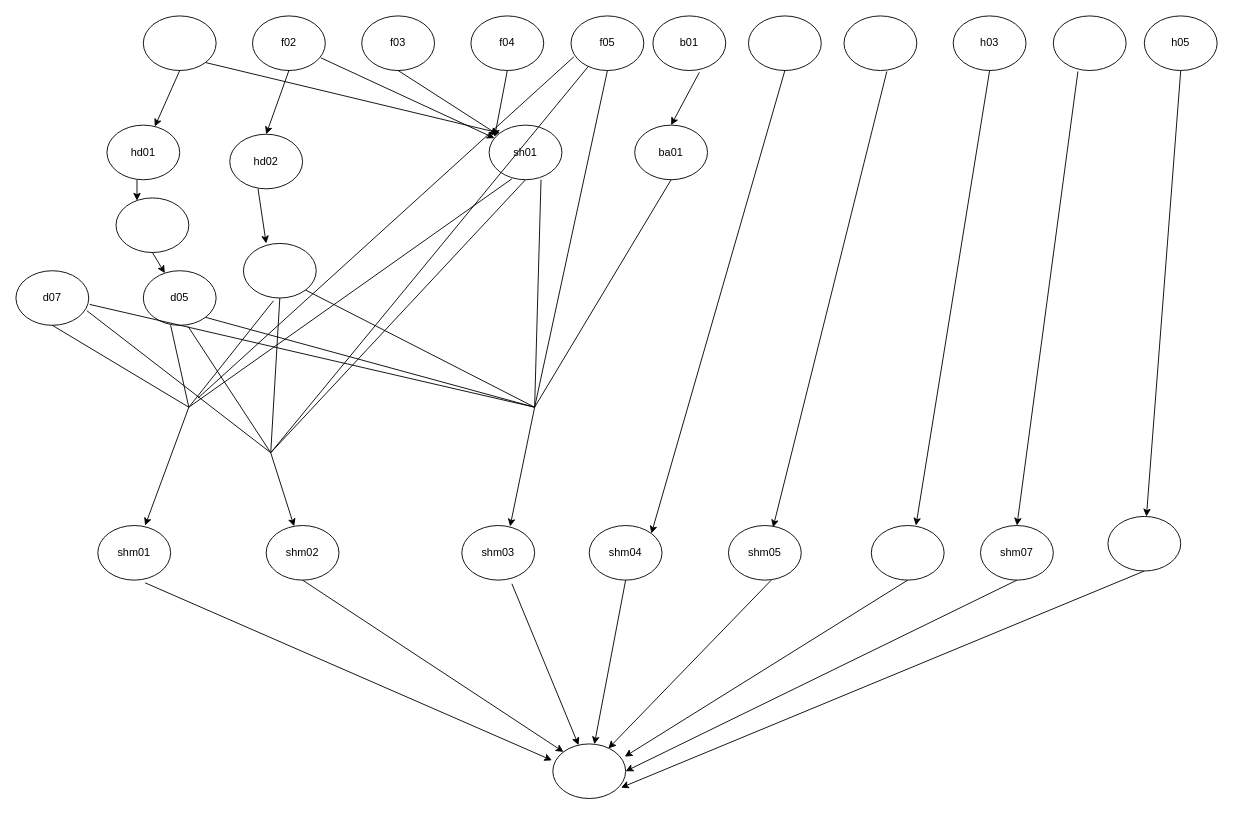
This 1233x814 diagram has some shape labels left out. The centre of each missing label's shape, as x and y in pixels:
"bd01" goes at pixel 152 225.
"d03" goes at pixel 279 270.
"f01" goes at pixel 179 43.
"h01" goes at pixel 784 43.
"h02" goes at pixel 880 43.
"h04" goes at pixel 1089 43.
"shf01" goes at pixel 589 771.
"shm06" goes at pixel 907 552.
"shm08" goes at pixel 1144 543.
